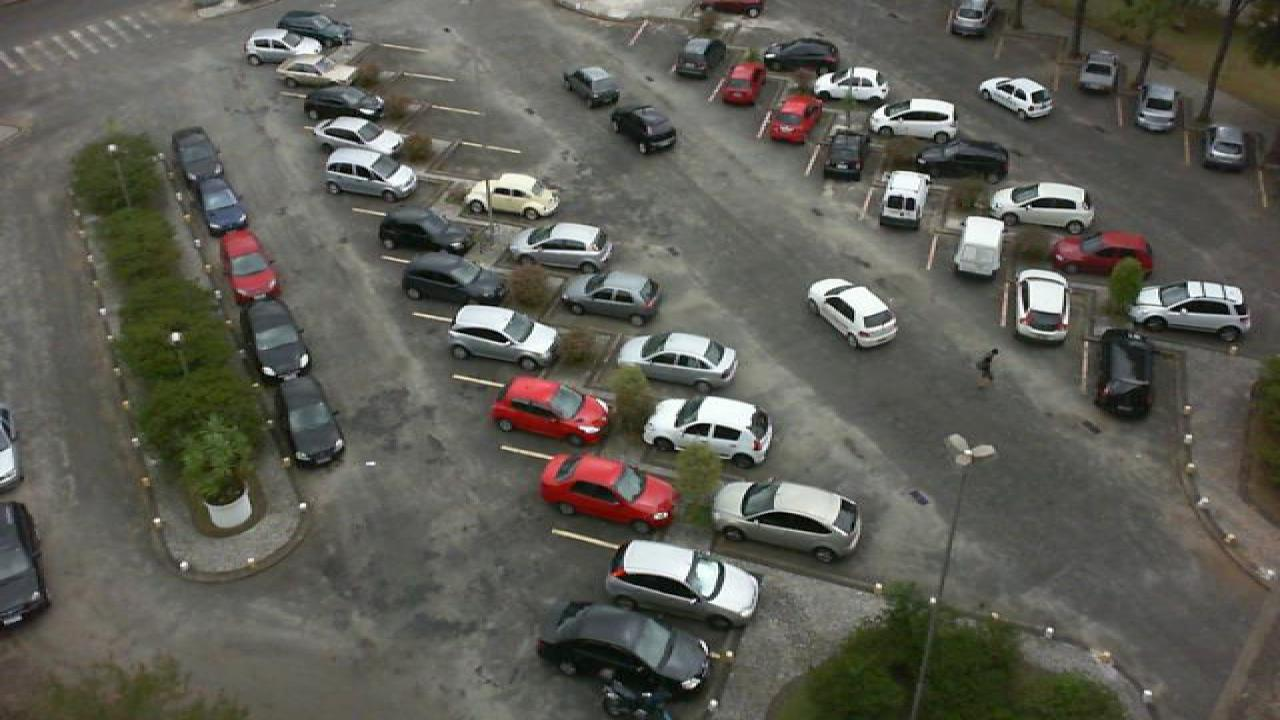Car: (534, 601, 714, 695), (600, 537, 762, 630), (708, 476, 864, 562), (538, 450, 682, 536), (640, 394, 776, 468), (490, 375, 612, 446), (1126, 279, 1256, 343), (446, 304, 562, 370), (620, 330, 740, 391), (276, 372, 346, 468), (398, 250, 508, 306), (242, 297, 314, 381), (558, 268, 662, 325), (506, 221, 616, 274), (986, 180, 1096, 233), (1096, 329, 1158, 420), (318, 146, 418, 202), (1050, 229, 1158, 278), (460, 171, 560, 223), (1010, 268, 1072, 344), (376, 208, 476, 254), (218, 228, 280, 302), (868, 97, 962, 143), (912, 137, 1014, 178), (312, 115, 408, 156), (976, 75, 1058, 120), (300, 83, 388, 124), (242, 27, 330, 66), (610, 105, 680, 154), (878, 169, 934, 228), (810, 65, 890, 106), (762, 93, 826, 144), (276, 53, 362, 90), (196, 174, 250, 232), (760, 37, 844, 72), (170, 125, 222, 180), (822, 126, 872, 181), (276, 9, 352, 42), (564, 65, 622, 108), (1202, 124, 1256, 170), (714, 62, 768, 107), (672, 36, 728, 79), (1134, 82, 1182, 130), (1074, 49, 1124, 93), (946, 0, 1000, 37)
